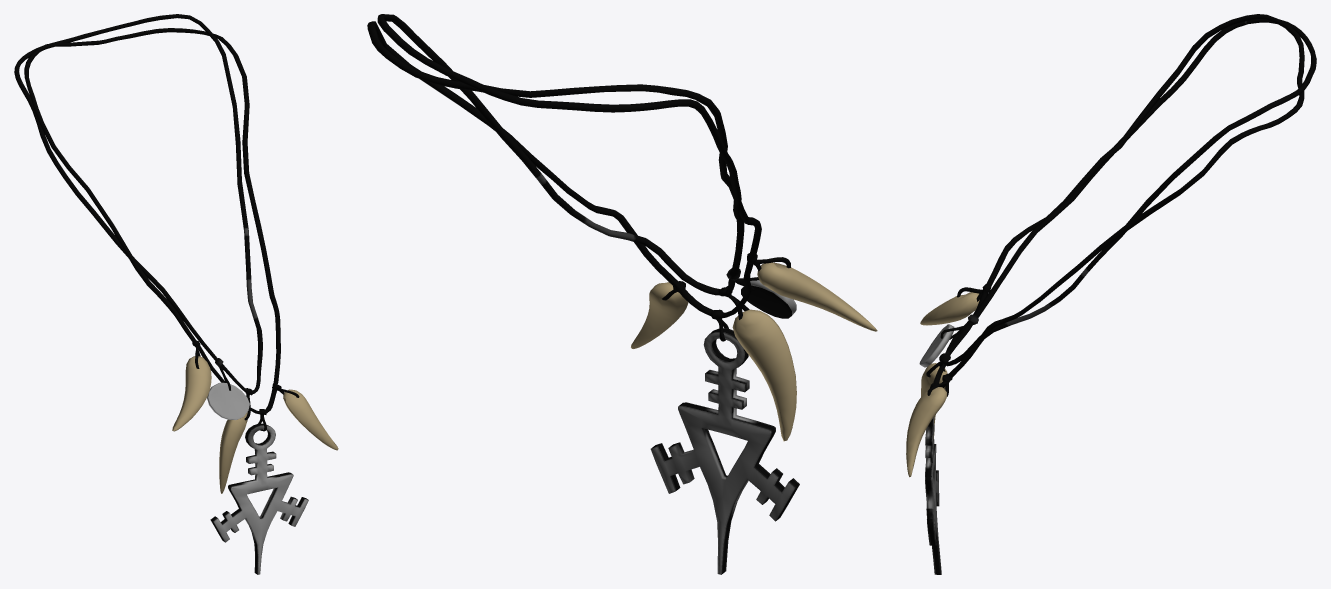
Rendered from neclece.fbx.
3 renders of one model, left to right at view 1: azimuth 30°, elevation 25°; view 2: azimuth 150°, elevation 25°; view 3: azimuth 270°, elevation 25°, orthographic. The views are drawn at different scales.
Parts seen in each view (by area): view 1: neclace, neclace1; view 2: neclace, neclace1; view 3: neclace, neclace1.
Part boxes in pixels (bbox=[...]): neclace: bbox=[24, 28, 338, 574]; neclace1: bbox=[14, 14, 262, 493]; neclace: bbox=[367, 21, 877, 574]; neclace1: bbox=[377, 14, 796, 441]; neclace: bbox=[906, 14, 1304, 574]; neclace1: bbox=[919, 19, 1316, 438].
Size of the model in its own units: 14.69 by 29.2 by 21.17.
